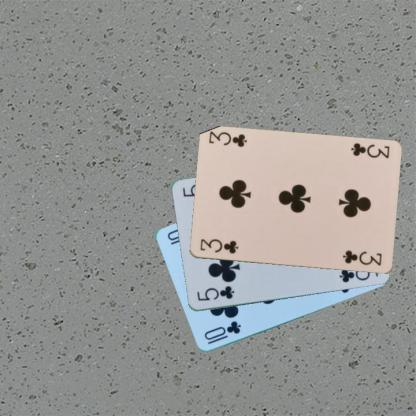10c: (201, 318, 242, 346)
3c: (197, 236, 239, 256), (348, 140, 390, 160)
5c: (194, 283, 236, 302)
